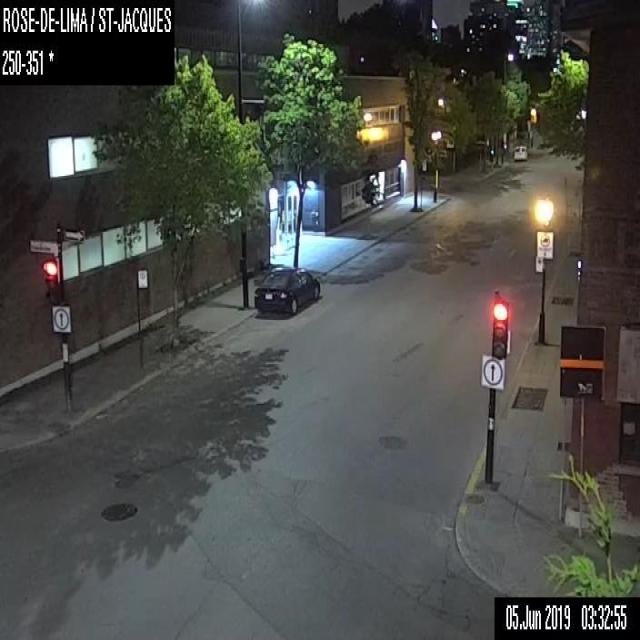vehicle: (252, 262, 322, 314), (512, 143, 531, 160)
